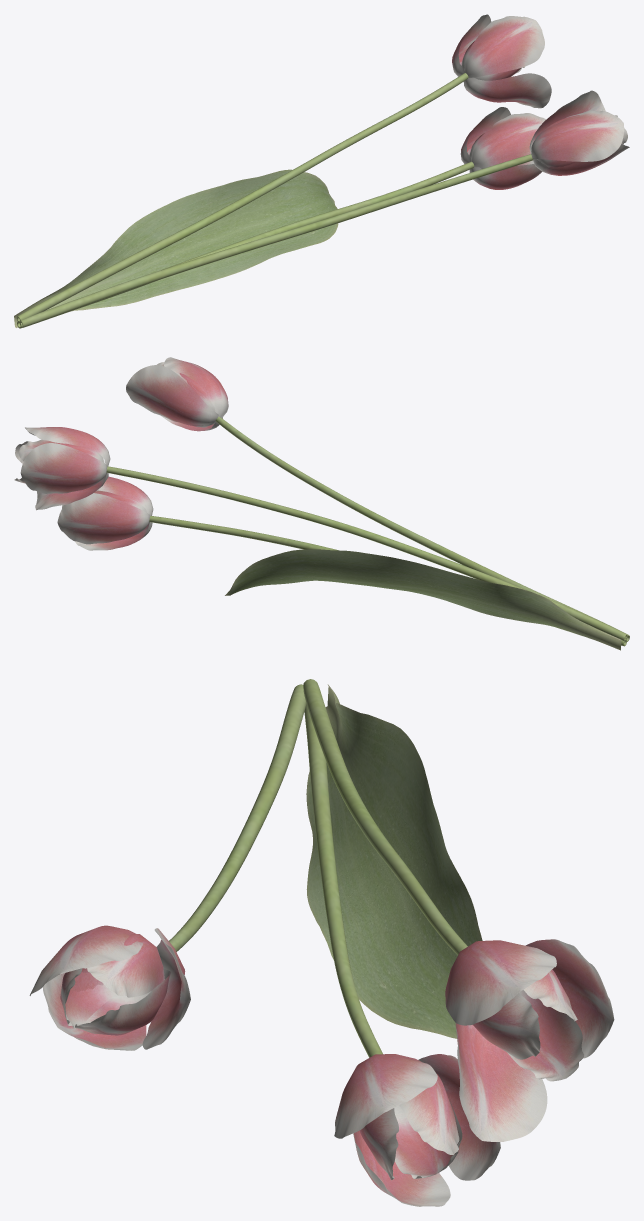
The model's file is tulip.fbx.
3 renders of one model, top to bottom at view 1: azimuth 30°, elevation 25°; view 2: azimuth 150°, elevation 25°; view 3: azimuth 270°, elevation 25°, orthographic. The views are drawn at different scales.
Visible parts, largest first — view 1: TulipFlower002, TulipLeaf001, TulipStem, TulipFlower001; view 2: TulipFlower002, TulipLeaf001, TulipStem, TulipFlower001; view 3: TulipFlower002, TulipLeaf001, TulipFlower001, TulipStem.
Part boxes in pixels (x1=…): TulipFlower002: x1=452, y1=14, x2=629, y2=189; TulipLeaf001: x1=14, y1=169, x2=338, y2=327; TulipStem: x1=16, y1=73, x2=533, y2=328; TulipFlower001: x1=460, y1=41, x2=627, y2=170; TulipFlower002: x1=20, y1=357, x2=228, y2=550; TulipLeaf001: x1=225, y1=549, x2=621, y2=650; TulipStem: x1=106, y1=416, x2=629, y2=646; TulipFlower001: x1=14, y1=362, x2=215, y2=512; TulipFlower002: x1=29, y1=925, x2=614, y2=1206; TulipLeaf001: x1=306, y1=684, x2=482, y2=1038; TulipFlower001: x1=60, y1=934, x2=583, y2=1180; TulipStem: x1=169, y1=679, x2=467, y2=1057.
Size of what is drawn, in the model's own units: 41.43 by 18.93 by 9.46.
